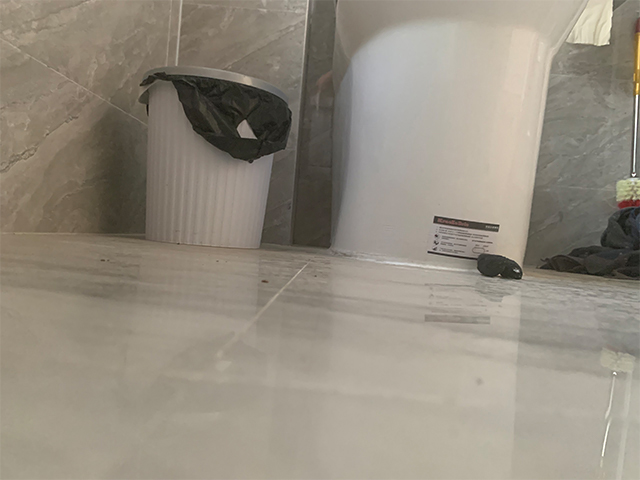closestool: (329, 1, 591, 271)
feces: (476, 253, 524, 280)
trashcan: (139, 65, 290, 250)
